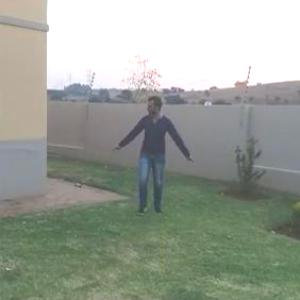land: (102, 98, 200, 231)
